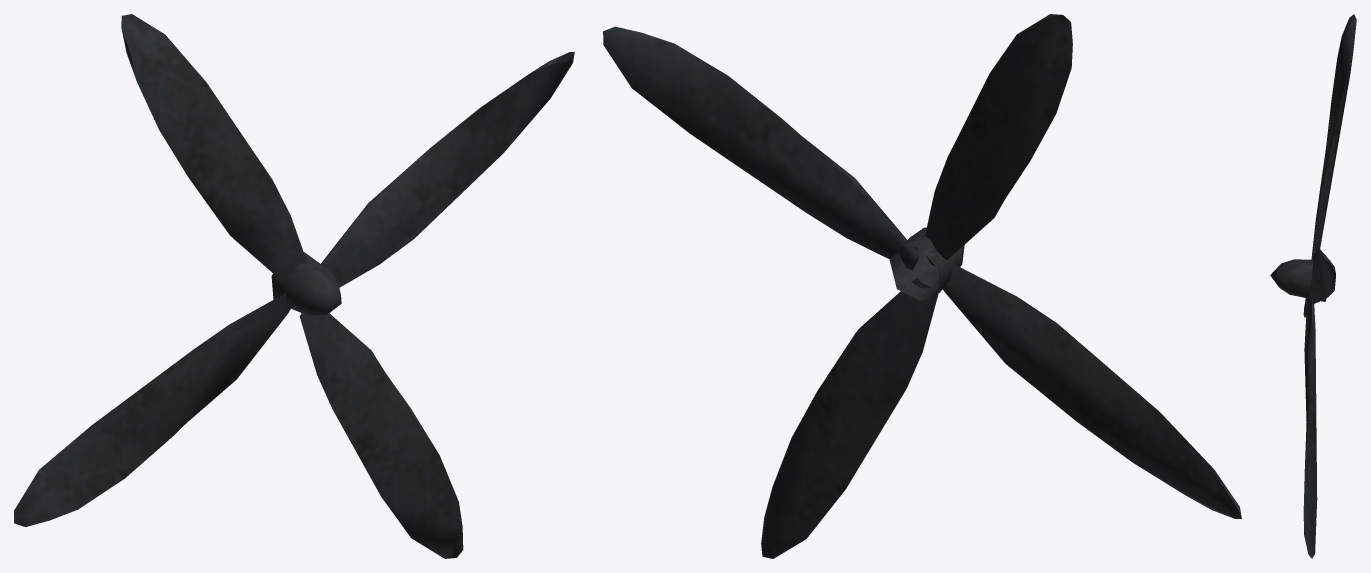
File: SM_EN_1002_luoxuan01.FBX
3 views of the same model, side by side, from view 1: azimuth 30°, elevation 25°; view 2: azimuth 150°, elevation 25°; view 3: azimuth 270°, elevation 25° (orthographic). The views are drawn at different scales.
Parts seen in each view (by area): view 1: SM_EN_1002_luoxuan01; view 2: SM_EN_1002_luoxuan01; view 3: SM_EN_1002_luoxuan01.
Boxes of the visible parts, x1,y1,x2,y2 form: SM_EN_1002_luoxuan01: [14, 14, 574, 558]; SM_EN_1002_luoxuan01: [603, 14, 1241, 558]; SM_EN_1002_luoxuan01: [1270, 14, 1356, 558].
Bounding box in the file's own units: 238 × 236 × 42.54.
